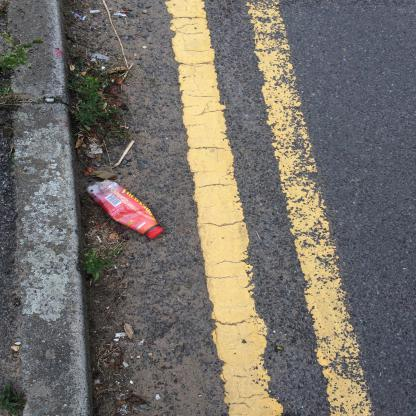plastik: (86, 179, 162, 239)
